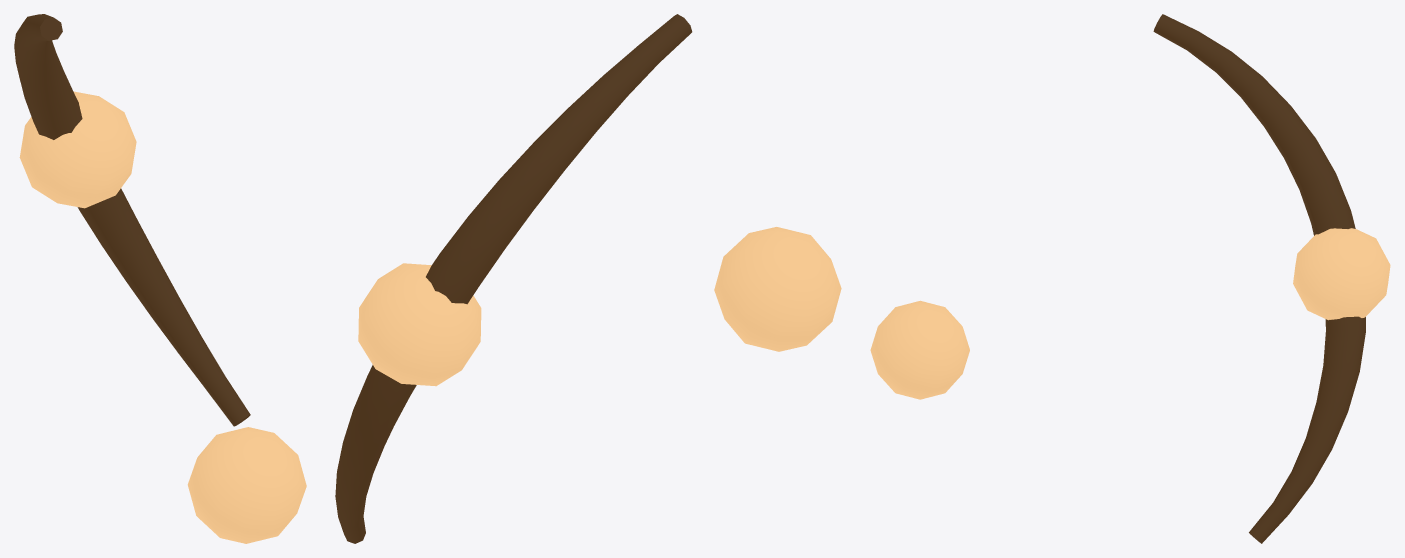
Rendered from bow.fbx.
The picture shows the model from 3 angles, left to right: view 1: azimuth 30°, elevation 25°; view 2: azimuth 150°, elevation 25°; view 3: azimuth 270°, elevation 25°; orthographic projection. The views are drawn at different scales.
Visible parts, largest first — view 1: Sweep, Sphere_1, Sphere, Cap_2; view 2: Sweep, Sphere_1, Sphere; view 3: Sweep, Sphere_1, Sphere.
Boxes of the visible parts, x1,y1,x2,y2 form: Sweep: (14,14,250,426); Sphere_1: (187,427,306,543); Sphere: (19,91,136,208); Cap_2: (40,17,62,40); Sweep: (335,14,692,543); Sphere_1: (714,227,841,351); Sphere: (358,263,481,386); Sweep: (1153,14,1365,543); Sphere_1: (870,300,969,399); Sphere: (1293,228,1390,320).
Bounding box in the file's own units: 36.09 × 66.23 × 73.03.
